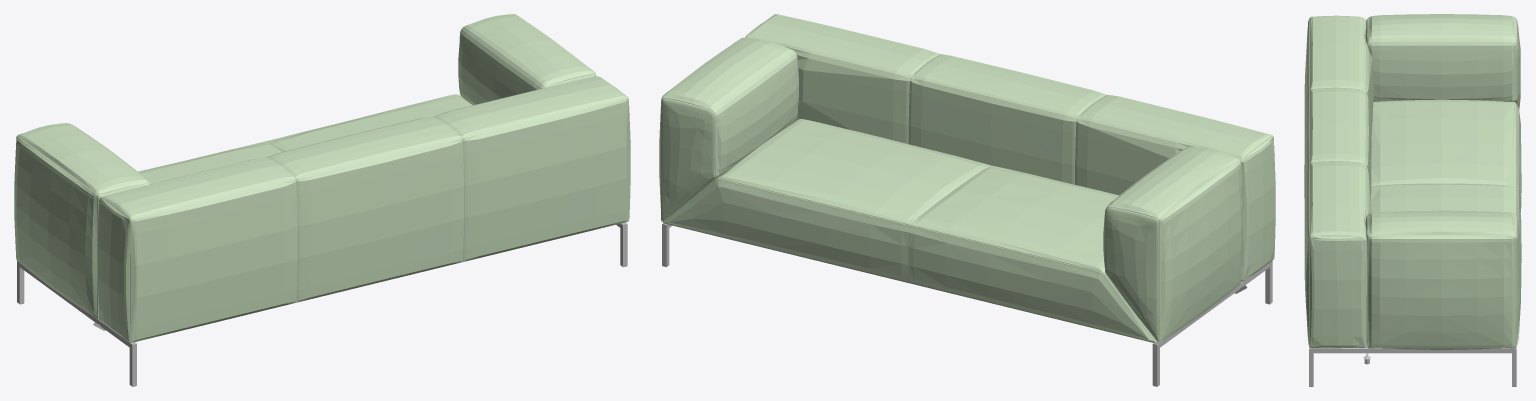
The model's file is Sofa.obj.
3 views of the same model, side by side, from view 1: azimuth 30°, elevation 25°; view 2: azimuth 150°, elevation 25°; view 3: azimuth 270°, elevation 25° (orthographic). The views are drawn at different scales.
Visible parts, largest first — view 1: 8150_2s215; view 2: 8150_2s215; view 3: 8150_2s215.
Boxes of the visible parts, box(x1,y1,x2,y2) form: 8150_2s215: box(14, 14, 630, 386); 8150_2s215: box(659, 14, 1275, 386); 8150_2s215: box(1304, 14, 1521, 386).
Size of the model in its own units: 56.9 by 18.4 by 22.82.
